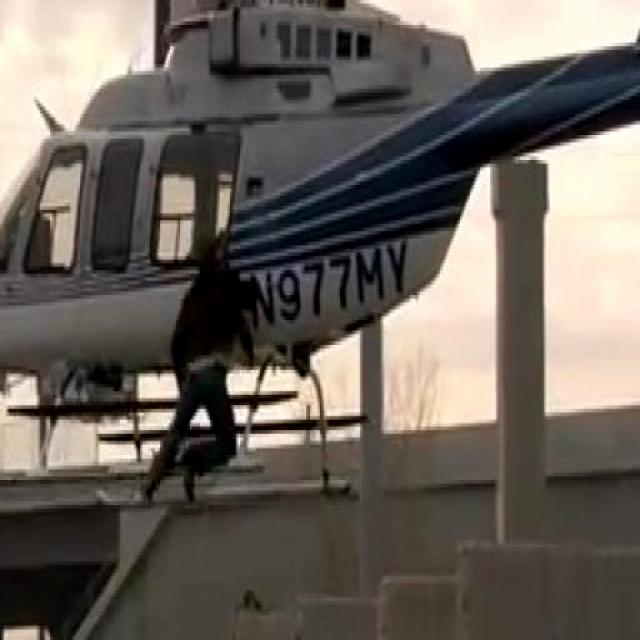drone: (0, 0, 640, 519)
